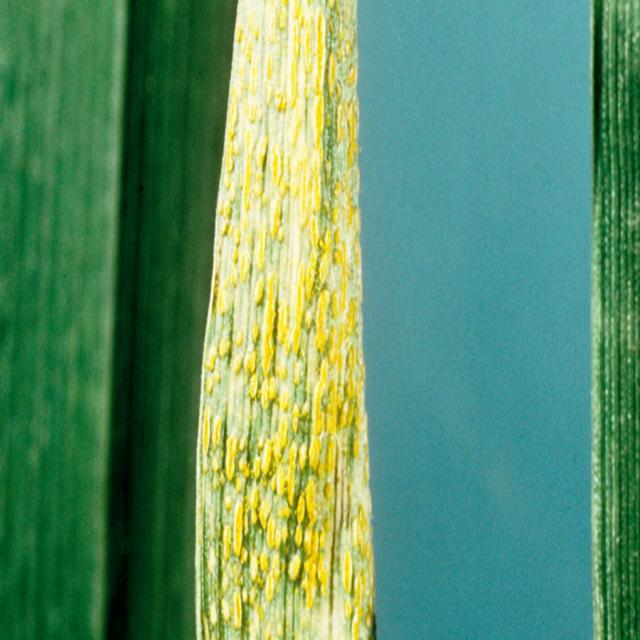wheat-yellowrust: (196, 0, 376, 640)
